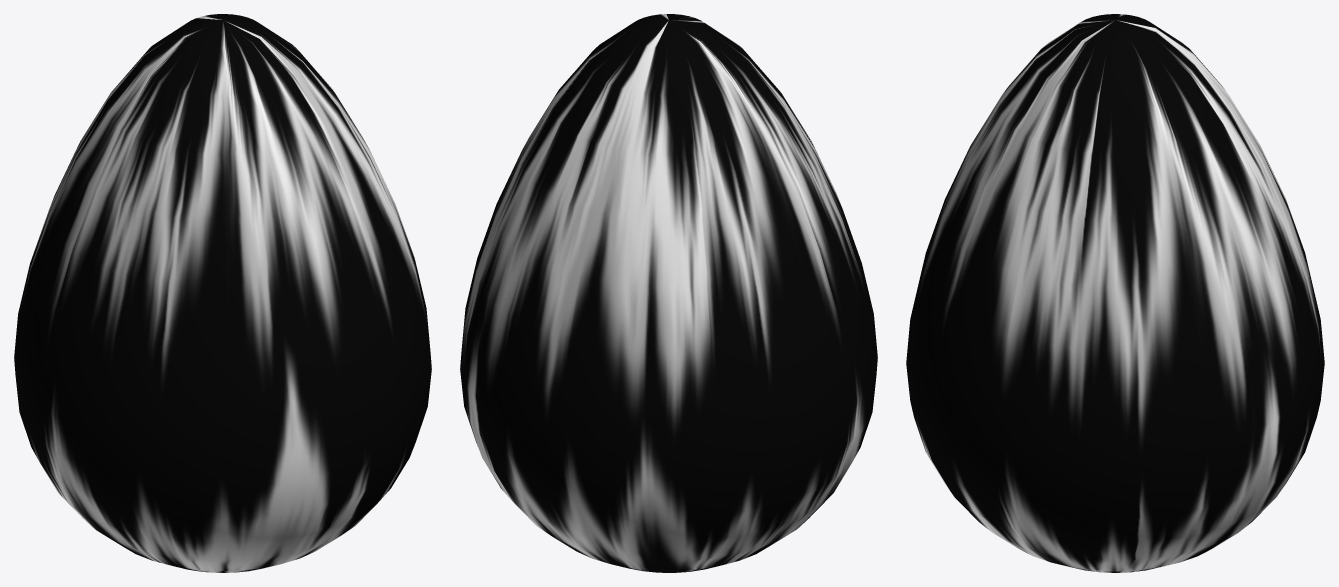
File: Aura_Ki_2.fbx
3 views of the same model, side by side, from view 1: azimuth 30°, elevation 25°; view 2: azimuth 150°, elevation 25°; view 3: azimuth 270°, elevation 25° (orthographic).
Visible parts, largest first — view 1: Sphere; view 2: Sphere; view 3: Sphere.
Boxes of the visible parts, box(x1,y1,x2,y2) form: Sphere: box(14, 14, 431, 572); Sphere: box(460, 14, 877, 572); Sphere: box(906, 14, 1324, 572).
Bounding box in the file's own units: 200 × 281 × 200.
